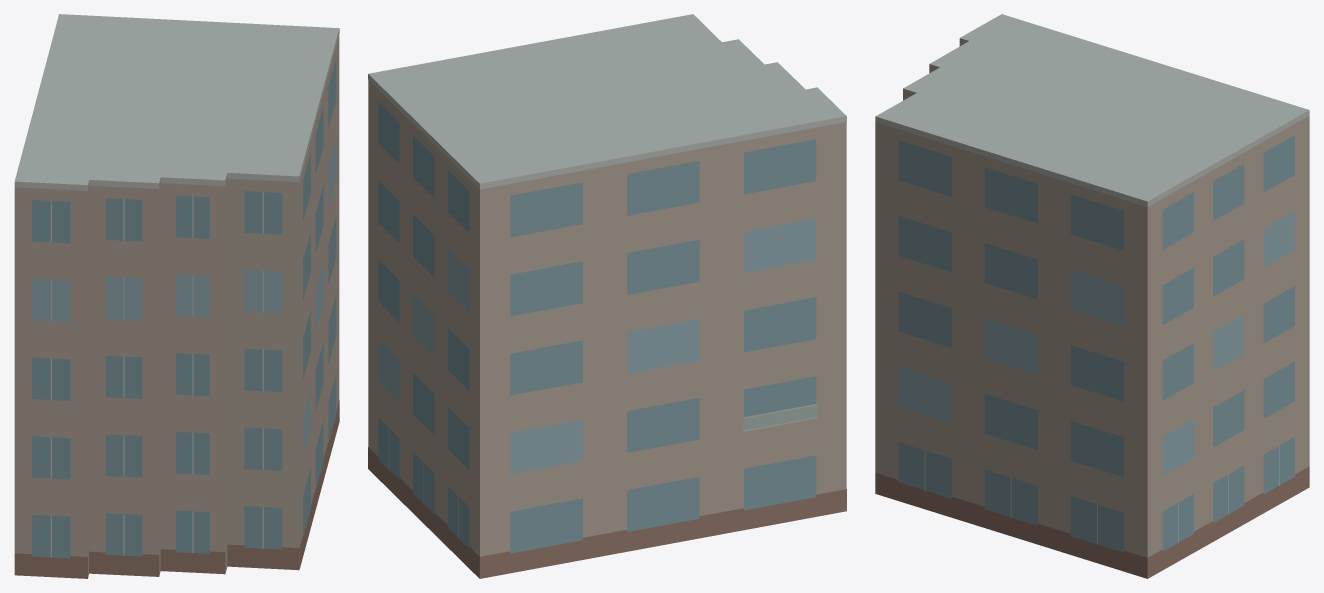
Rendered from survey-upis-32680858.glb.
3 views of the same model, side by side, from view 1: azimuth 30°, elevation 25°; view 2: azimuth 150°, elevation 25°; view 3: azimuth 270°, elevation 25° (orthographic). The views are drawn at different scales.
Visible parts, largest first — view 1: survey-upis-32680858.tmp; view 2: survey-upis-32680858.tmp; view 3: survey-upis-32680858.tmp.
Boxes of the visible parts, <box> form: survey-upis-32680858.tmp: <box>14,14,339,578</box>; survey-upis-32680858.tmp: <box>368,14,846,578</box>; survey-upis-32680858.tmp: <box>875,14,1309,578</box>.
Bounding box in the file's own units: 17.8 × 16.7 × 17.42.
